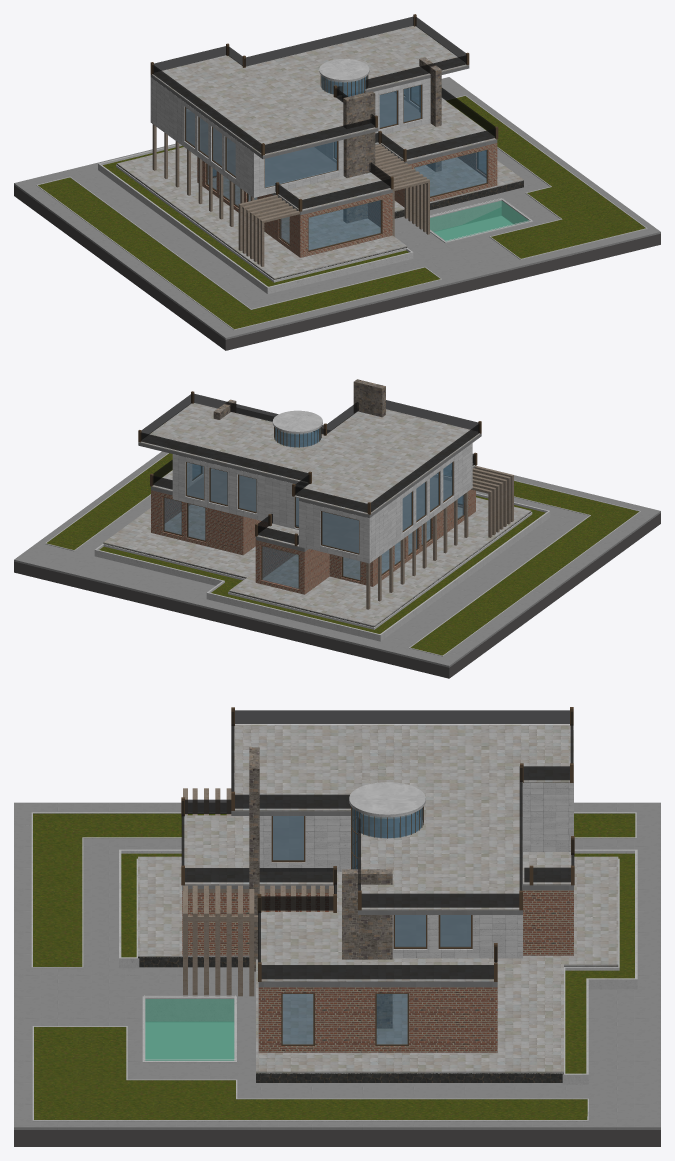
The model's file is modern_luxury_villa_house_building_home.glb.
3 renders of one model, top to bottom at view 1: azimuth 30°, elevation 25°; view 2: azimuth 150°, elevation 25°; view 3: azimuth 270°, elevation 25°, orthographic. The views are drawn at different scales.
Visible parts, largest first — view 1: Line013_12 - Car Paint_0, Line010_Wall Paint_0, Line019, Line017, Line025_Wall Paint_0, Line022_24 - Default_0, Line002_Ceramic_0, Shape063_01 - Default_0, Line006_Wall Paint_0, Line001_Solid Glass_0, Line015_05 - Default_0, Line004_Wall Paint_0 (+20 smaller); view 2: Line010_Wall Paint_0, Line013_12 - Car Paint_0, Line025_Wall Paint_0, Line002_Ceramic_0, Line019, Line001_Solid Glass_0, Line022_24 - Default_0, Shape063_01 - Default_0, Line015_05 - Default_0, Line007_Metal_0, Line016_04 - Default_0, Line017 (+16 smaller); view 3: Line013_12 - Car Paint_0, Line010_Wall Paint_0, Line025_Wall Paint_0, Line017, Line001_Solid Glass_0, Line006_Wall Paint_0, Line019, Line022_24 - Default_0, Line002_Ceramic_0, Shape063_01 - Default_0, Line021, Line016_04 - Default_0 (+23 smaller).
Part boxes in pixels (left/top/right/bottom): Line013_12 - Car Paint_0: left=14, top=77, right=660, bottom=339; Line010_Wall Paint_0: left=152, top=26, right=469, bottom=156; Line019: left=38, top=177, right=439, bottom=329; Line017: left=446, top=96, right=645, bottom=258; Line025_Wall Paint_0: left=117, top=147, right=523, bottom=279; Line022_24 - Default_0: left=14, top=185, right=660, bottom=350; Line002_Ceramic_0: left=150, top=77, right=430, bottom=197; Shape063_01 - Default_0: left=152, top=16, right=466, bottom=153; Line006_Wall Paint_0: left=275, top=86, right=496, bottom=211; Line001_Solid Glass_0: left=197, top=143, right=497, bottom=257; Line015_05 - Default_0: left=98, top=144, right=413, bottom=294; Line004_Wall Paint_0: left=208, top=157, right=486, bottom=250; Line010_Wall Paint_0: left=138, top=403, right=480, bottom=515; Line013_12 - Car Paint_0: left=14, top=408, right=660, bottom=667; Line025_Wall Paint_0: left=103, top=496, right=531, bottom=626; Line002_Ceramic_0: left=172, top=443, right=472, bottom=563; Line019: left=410, top=481, right=639, bottom=655; Line001_Solid Glass_0: left=151, top=489, right=475, bottom=594; Line022_24 - Default_0: left=14, top=513, right=660, bottom=678; Shape063_01 - Default_0: left=140, top=393, right=480, bottom=512; Line015_05 - Default_0: left=94, top=493, right=550, bottom=641; Line007_Metal_0: left=187, top=469, right=451, bottom=552; Line016_04 - Default_0: left=99, top=495, right=545, bottom=633; Line017: left=46, top=453, right=172, bottom=549; Line013_12 - Car Paint_0: left=14, top=802, right=660, bottom=1129; Line010_Wall Paint_0: left=231, top=724, right=573, bottom=910; Line025_Wall Paint_0: left=138, top=856, right=618, bottom=1073; Line017: left=34, top=1027, right=587, bottom=1119; Line001_Solid Glass_0: left=182, top=890, right=573, bottom=1052; Line006_Wall Paint_0: left=182, top=815, right=573, bottom=981; Line019: left=33, top=813, right=635, bottom=966; Line022_24 - Default_0: left=14, top=1130, right=660, bottom=1146; Line002_Ceramic_0: left=259, top=730, right=573, bottom=958; Shape063_01 - Default_0: left=231, top=710, right=573, bottom=907; Line021: left=181, top=799, right=497, bottom=979; Line016_04 - Default_0: left=121, top=853, right=634, bottom=1073.
Size of the model in its own units: 30.21 by 9.95 by 25.45.
Materials: 18 (11 with a texture image).
